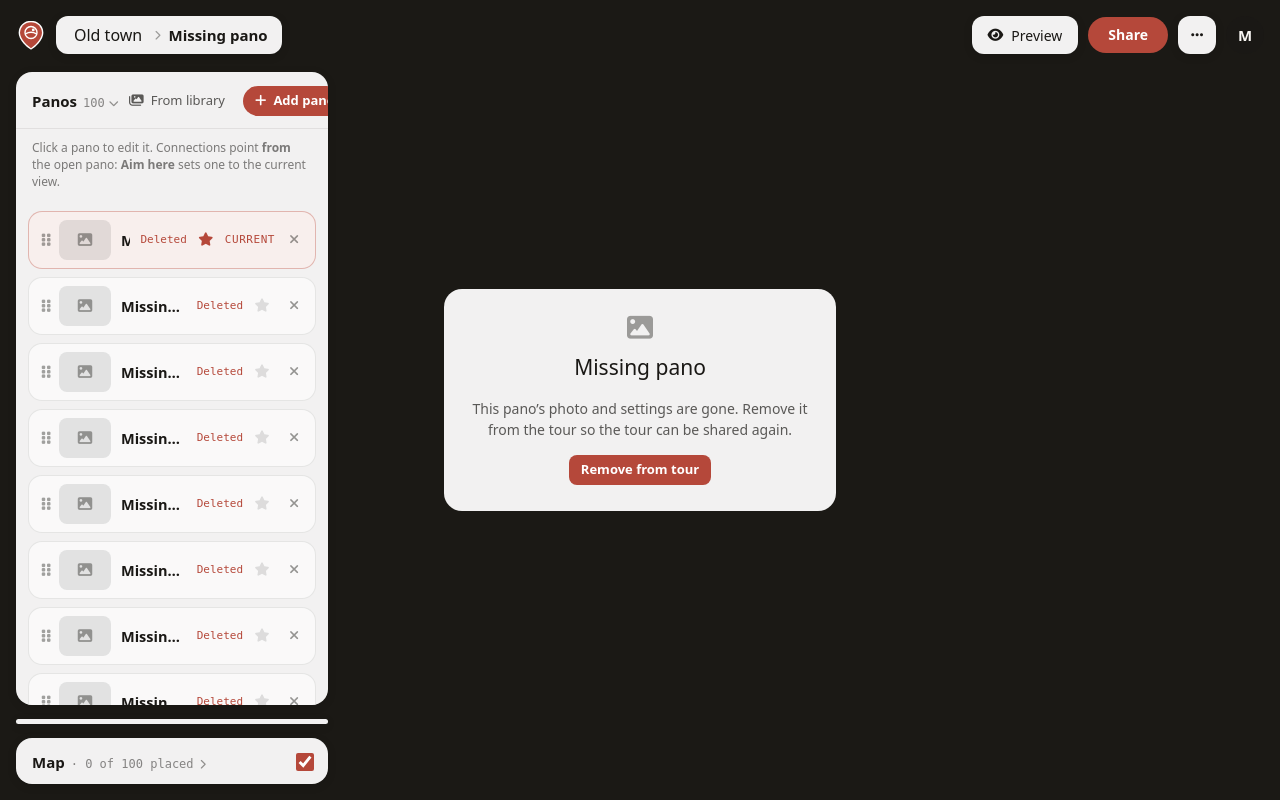
Scenario: editor: add from library, edge cases › disables Add and says so when the tour is full
Click the button "From library" at coordinates (177, 101), box [117,86,237,116]
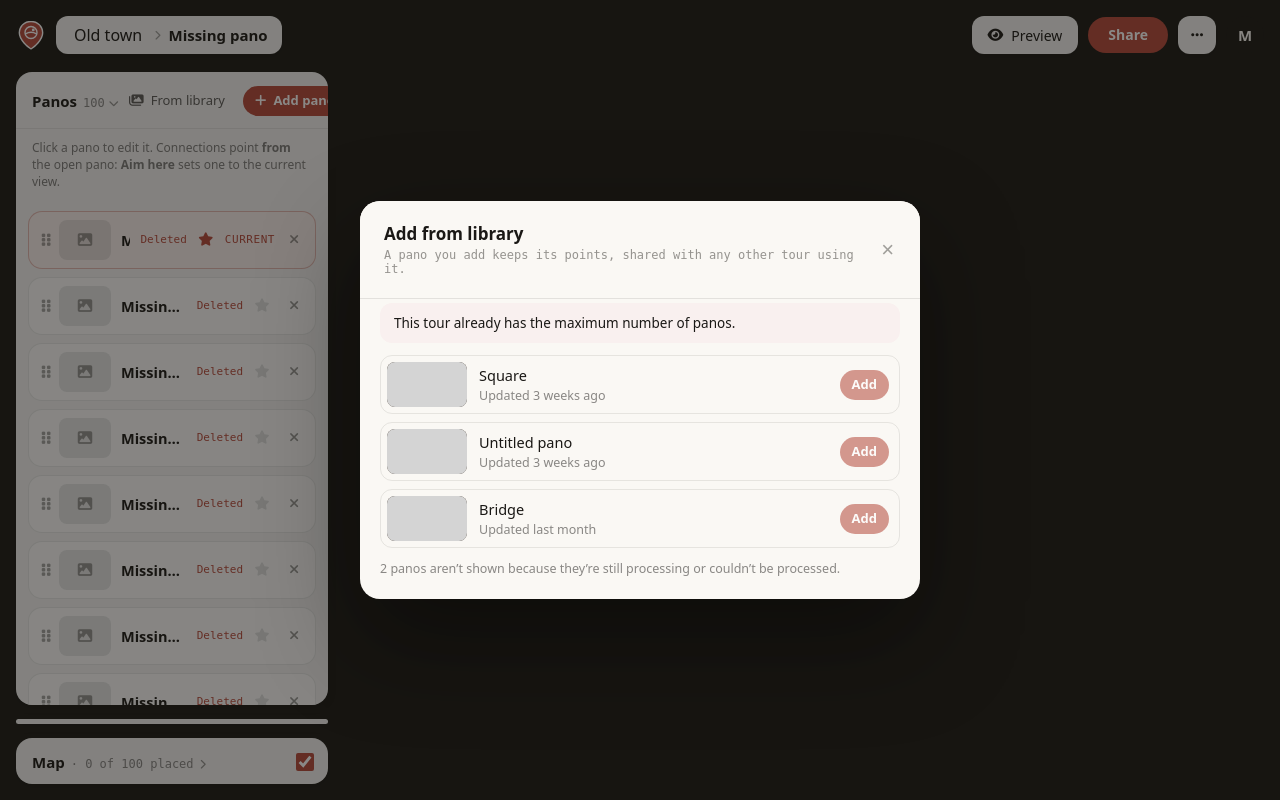
Result: the button with aria-label "Add “Bridge” to this tour" is disabled at [840,504,889,534]
Result: the element showing "This tour already has the maximum number of panos." is shown at [380,303,900,343]
